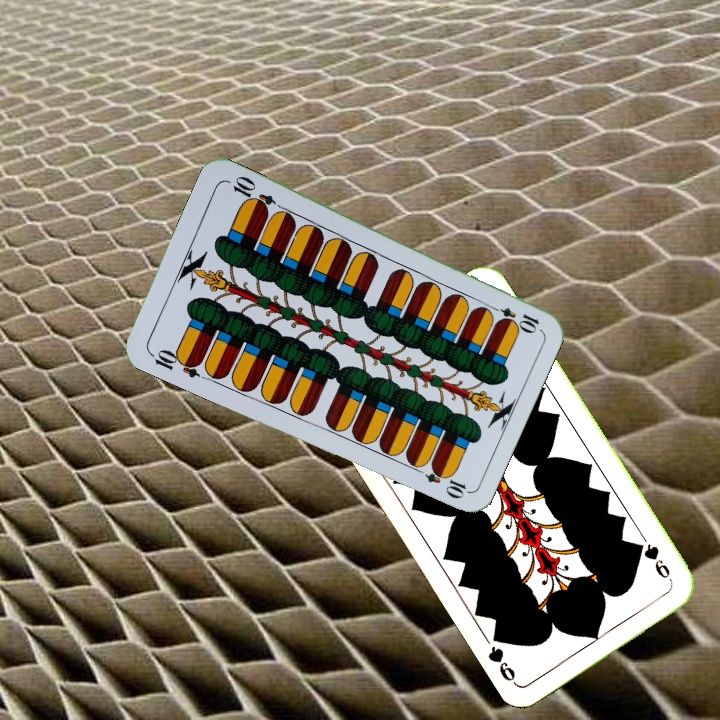E10: (146, 345, 204, 381), (484, 301, 542, 334)
G9: (633, 539, 676, 586)
